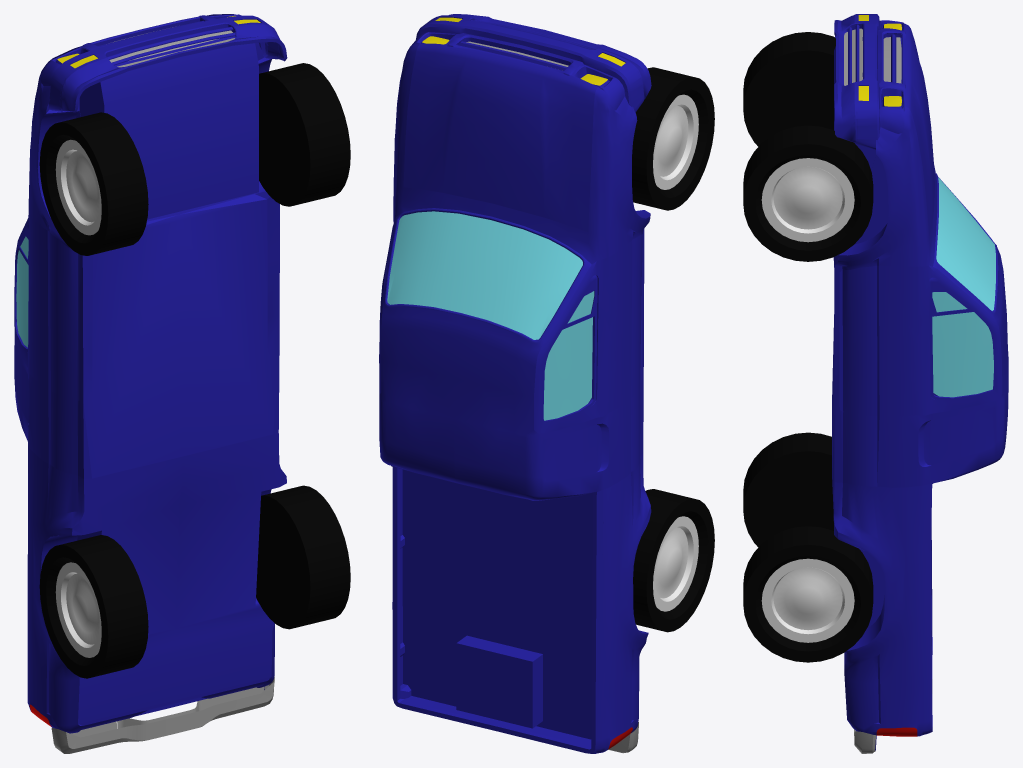
File: Pickup.fbx
The picture shows the model from 3 angles, left to right: view 1: azimuth 30°, elevation 25°; view 2: azimuth 150°, elevation 25°; view 3: azimuth 270°, elevation 25°; orthographic projection. The views are drawn at different scales.
Parts seen in each view (by area): view 1: Car, Tiers.004, Tiers.003, Tiers.001, Tiers.002; view 2: Car, Tiers.004, Tiers.003, Far; view 3: Car, Tiers.002, Tiers.001, Tiers.004, Tiers.003, Far.
Boxes of the visible parts, <box> form: Car: <box>14,14,287,753</box>; Tiers.004: <box>39,112,148,255</box>; Tiers.003: <box>39,535,148,678</box>; Tiers.001: <box>256,485,350,629</box>; Tiers.002: <box>259,63,350,206</box>; Car: <box>379,14,651,753</box>; Tiers.004: <box>632,67,714,210</box>; Tiers.003: <box>633,489,714,632</box>; Far: <box>422,17,625,85</box>; Car: <box>832,14,1008,753</box>; Tiers.002: <box>743,125,873,261</box>; Tiers.001: <box>743,526,873,662</box>; Tiers.004: <box>743,32,835,146</box>; Tiers.003: <box>743,432,833,547</box>; Far: <box>858,15,901,106</box>.
Bounding box in the file's own units: 5.9 × 16.16 × 5.9.
